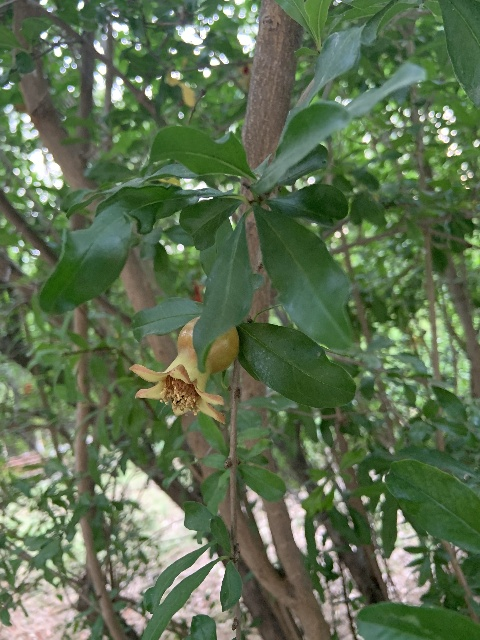early-fruit: (129, 315, 239, 425)
